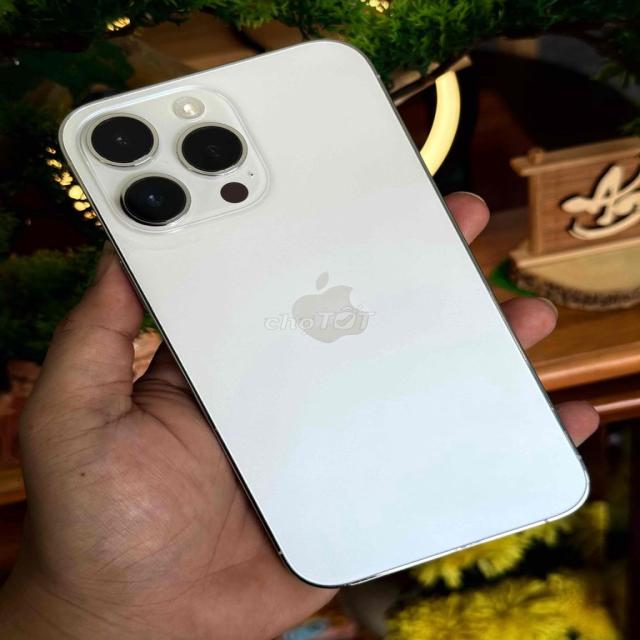gen_14: (68, 34, 588, 586)
